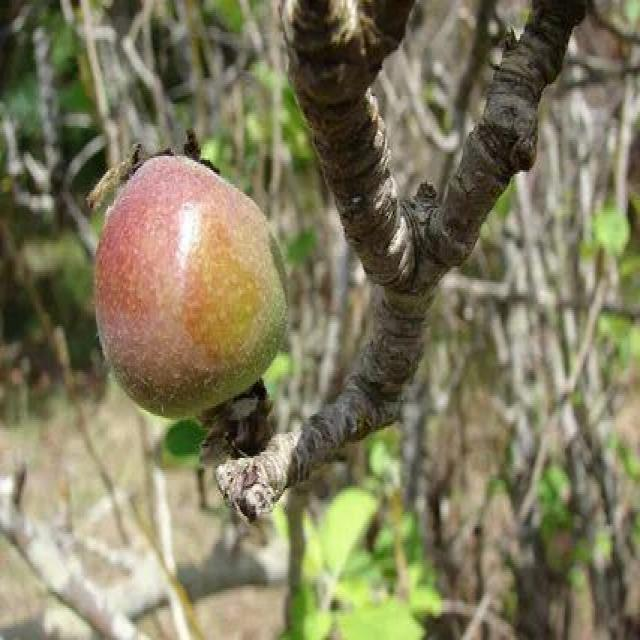Fresh Apple: (87, 172, 295, 416)
